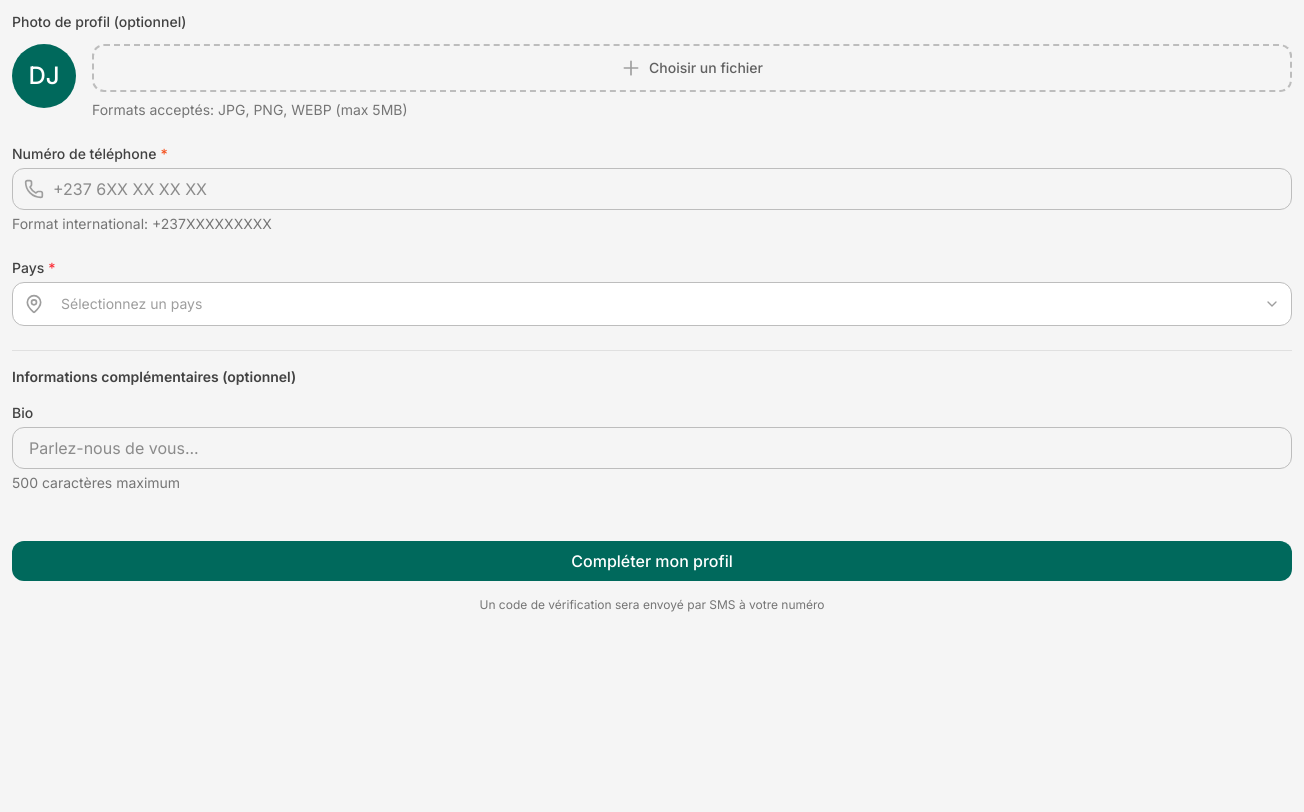
Scenario: CompleteProfileForm - logique metier › affiche le format adresse africain (Quartier) pour un pays du continent AF
The width and height of the screenshot is (1304, 812).
Click the button "Sélectionnez un pays" at (132, 304), box [12,282,1292,326]
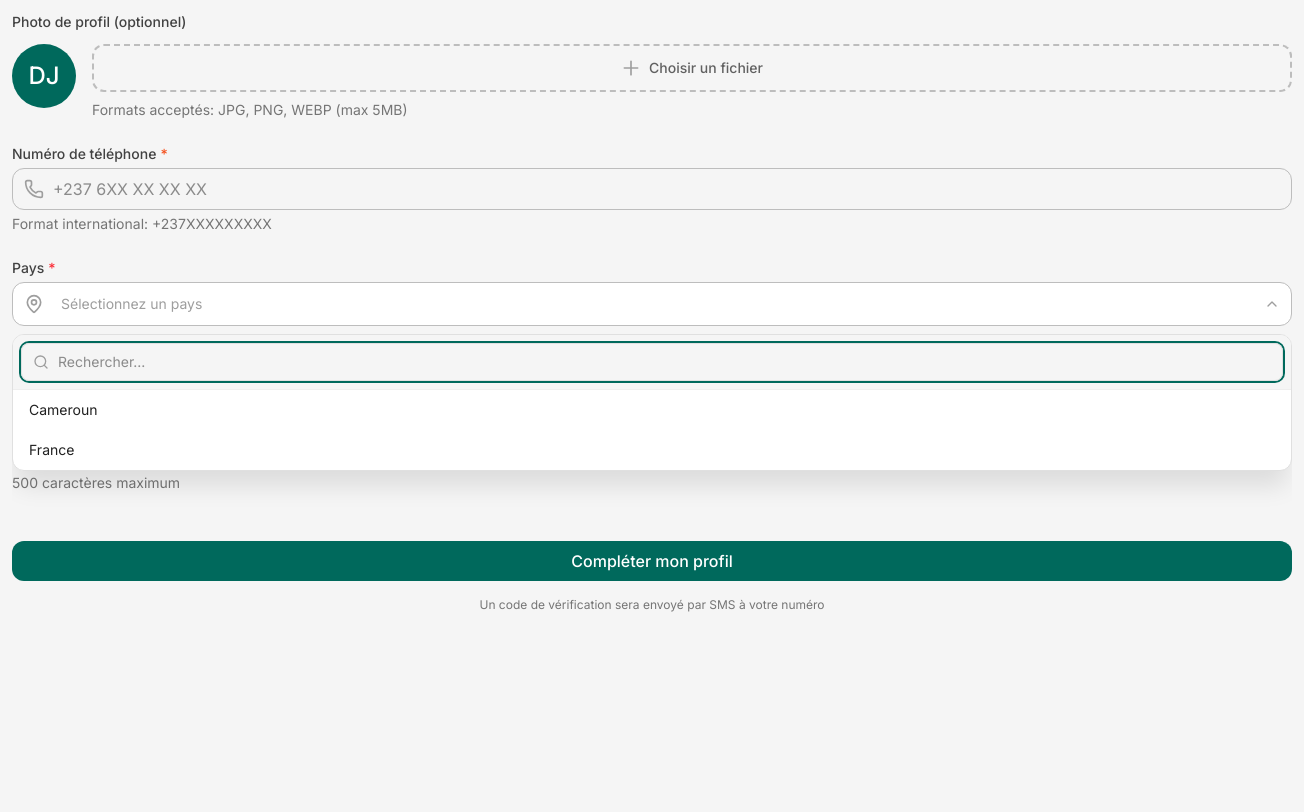
Click the button "Cameroun" at (63, 410), box [13,390,1291,430]
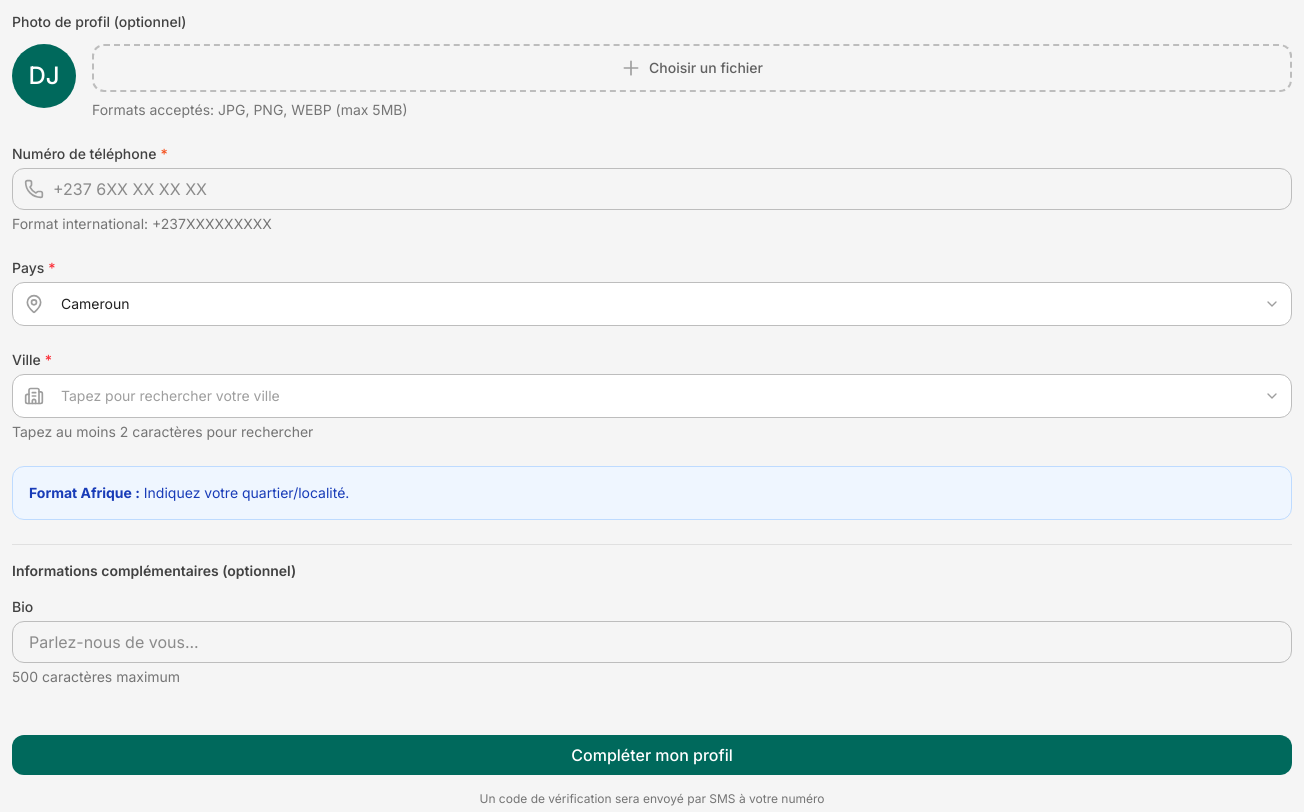
Click the button "Tapez pour rechercher votre ville" at (170, 396), box [12,374,1292,418]
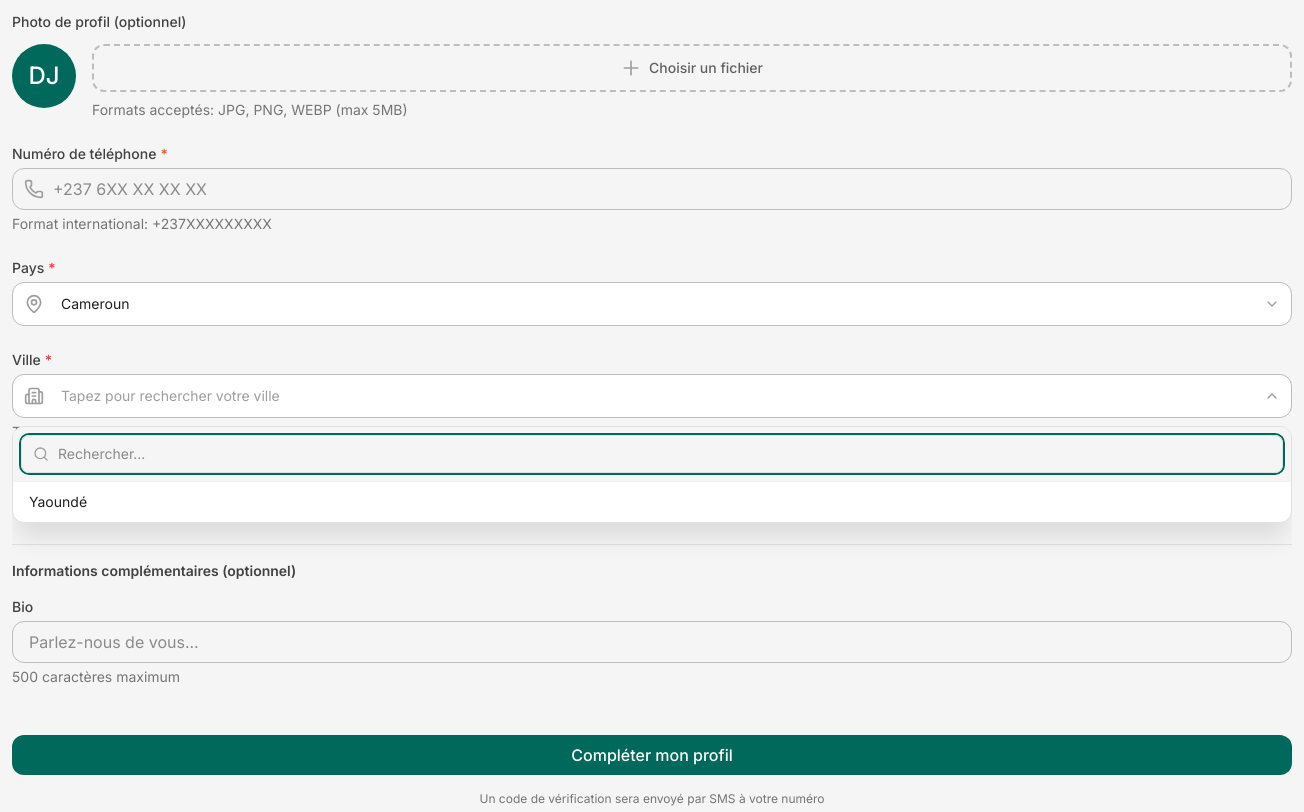
Click the button "Yaoundé" at (58, 502), box [13,482,1291,522]
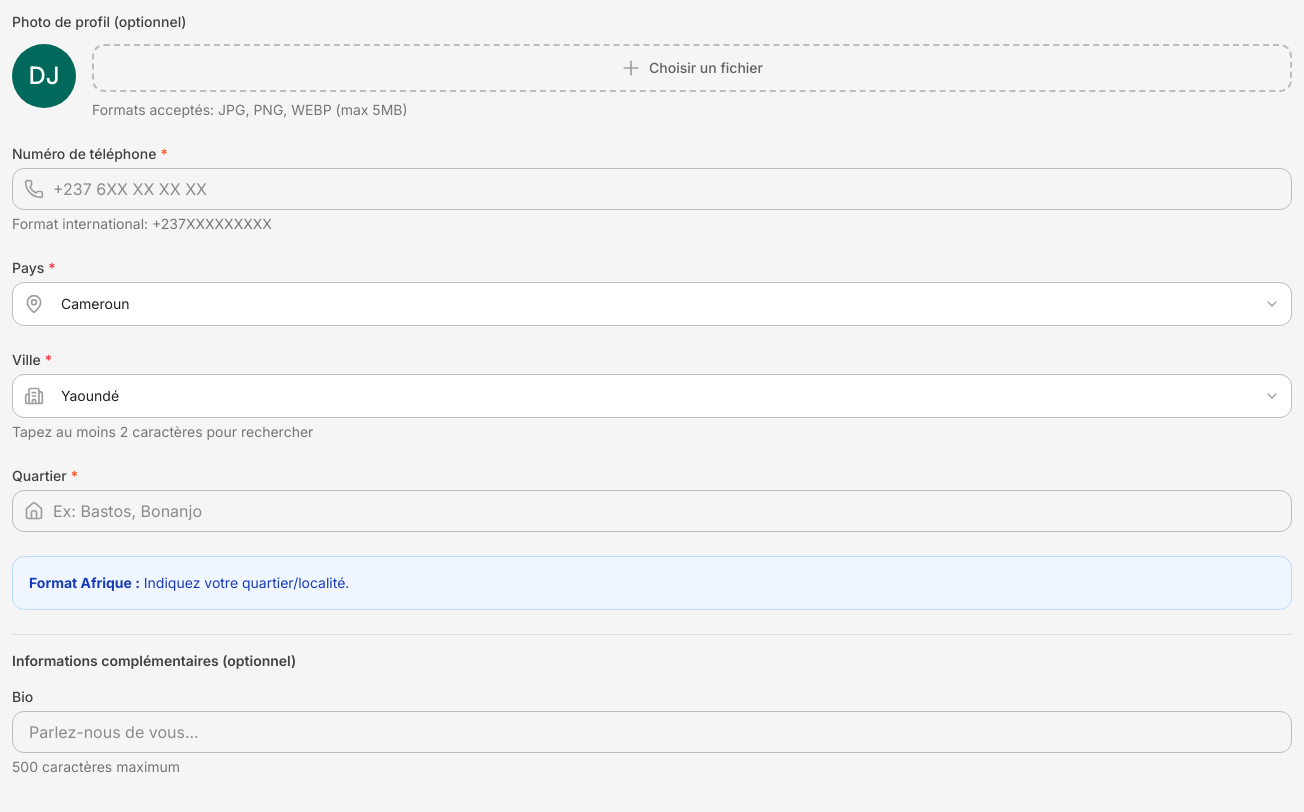
Check: the field labelled "Quartier*" is shown, box [12,490,1292,532]
